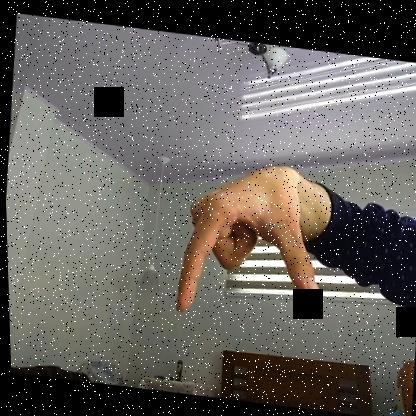Q: (168, 166, 329, 327)
